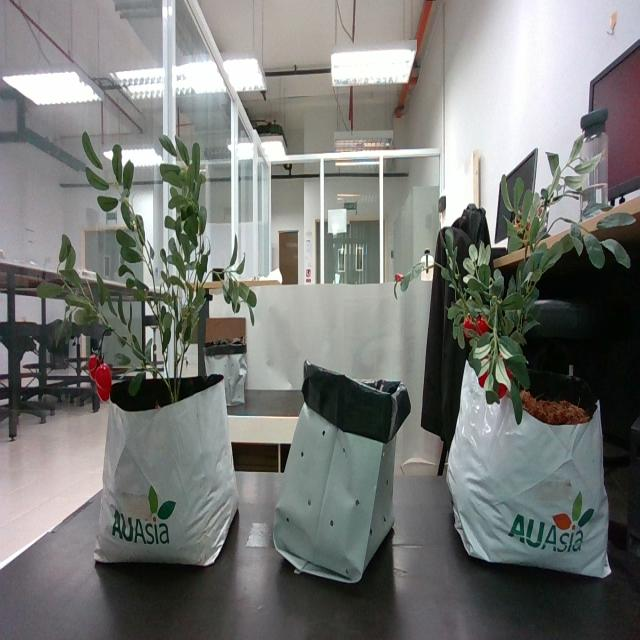Soilbag: (446, 369, 612, 580), (272, 368, 406, 587), (94, 376, 236, 571)
Tomato: (86, 353, 114, 407)
plant: (54, 135, 254, 404), (438, 125, 608, 426)
